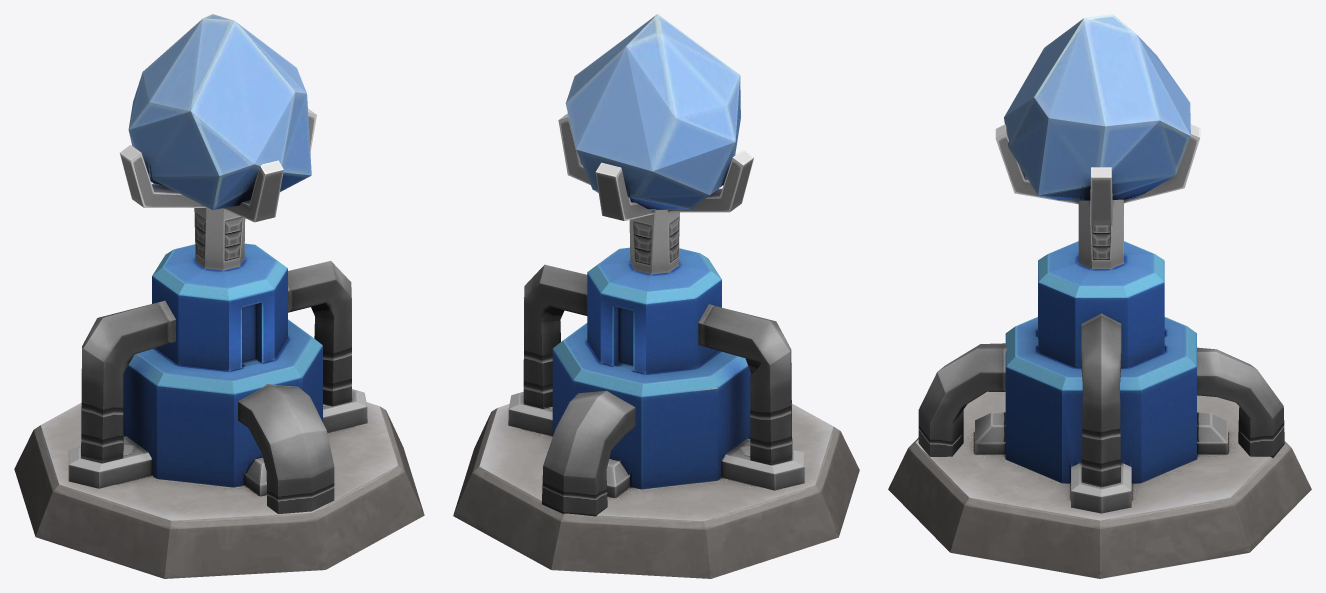
The model's file is emp-tower.glb.
3 renders of one model, left to right at view 1: azimuth 30°, elevation 25°; view 2: azimuth 150°, elevation 25°; view 3: azimuth 270°, elevation 25°, orthographic.
Visible parts, largest first — view 1: EMP_Tower_level_1; view 2: EMP_Tower_level_1; view 3: EMP_Tower_level_1.
Boxes of the visible parts, x1=… form: EMP_Tower_level_1: x1=14, y1=14, x2=424, y2=578; EMP_Tower_level_1: x1=453, y1=14, x2=859, y2=578; EMP_Tower_level_1: x1=888, y1=14, x2=1311, y2=578.
Bounding box in the file's own units: 1.83 × 2.26 × 1.83.
Materials: 1 (1 with a texture image).
